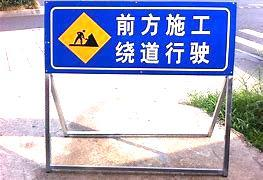sign: (46, 3, 232, 74)
